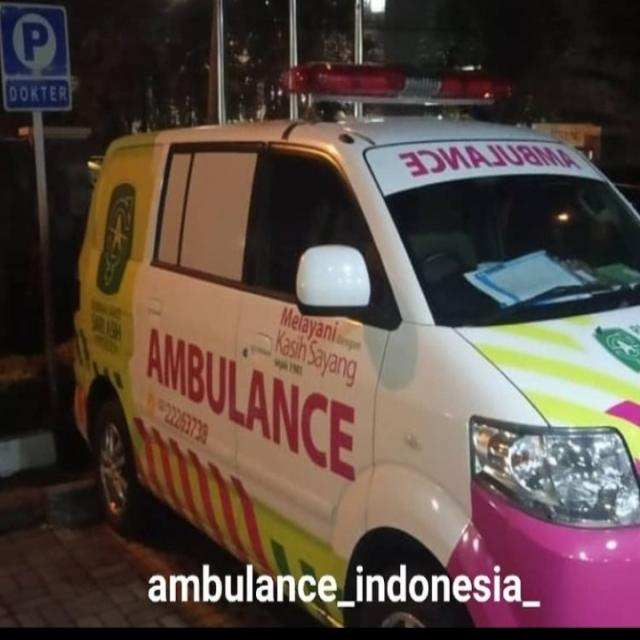emergency-vehicle: (64, 112, 639, 639)
